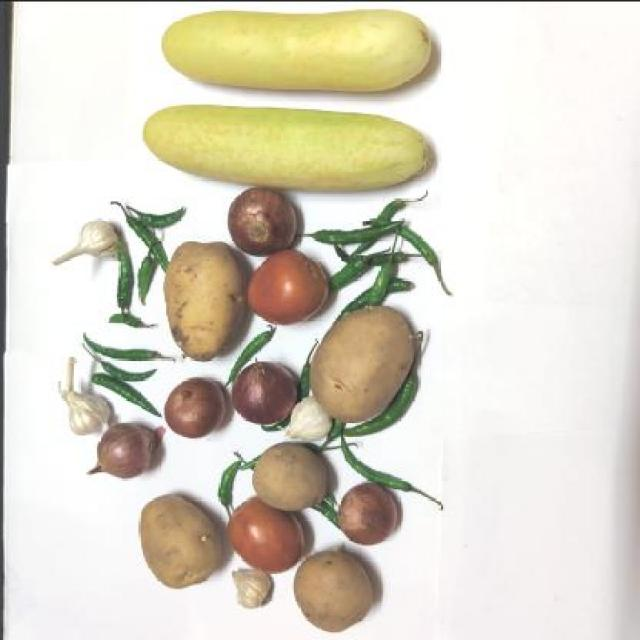Garlic: (52, 206, 126, 280), (55, 349, 111, 437), (225, 571, 283, 617), (282, 398, 331, 444)
Green Chili: (315, 200, 448, 308), (334, 434, 428, 492), (118, 198, 171, 294), (89, 358, 163, 417), (82, 330, 169, 364), (105, 291, 163, 338), (218, 451, 248, 509)
Onion: (80, 422, 163, 484), (226, 185, 300, 252), (163, 374, 228, 441), (334, 483, 401, 545), (234, 362, 294, 426)
Potato: (315, 305, 417, 412), (162, 238, 245, 364), (291, 546, 389, 636), (136, 495, 218, 594)
Tomato: (244, 243, 330, 325), (223, 495, 309, 574)
cucumber: (140, 95, 442, 197), (152, 1, 452, 97)
